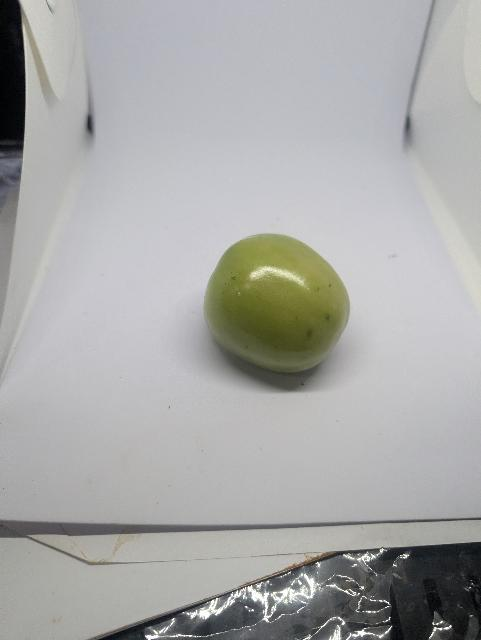green: (195, 226, 362, 382)
